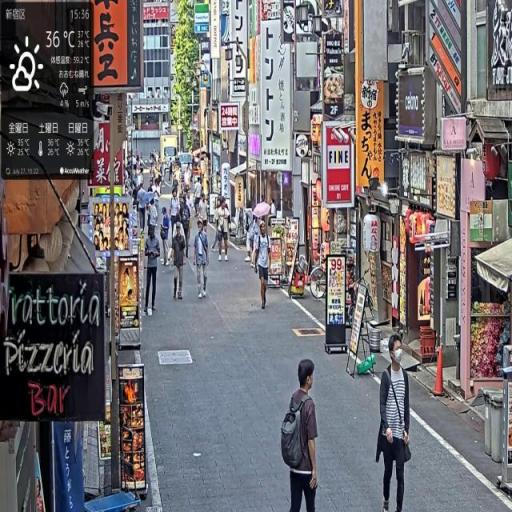person: (376, 332, 414, 512), (281, 356, 320, 512), (254, 219, 272, 312), (144, 223, 160, 317), (172, 220, 189, 302), (194, 218, 211, 299), (217, 199, 232, 263), (159, 206, 173, 268)
